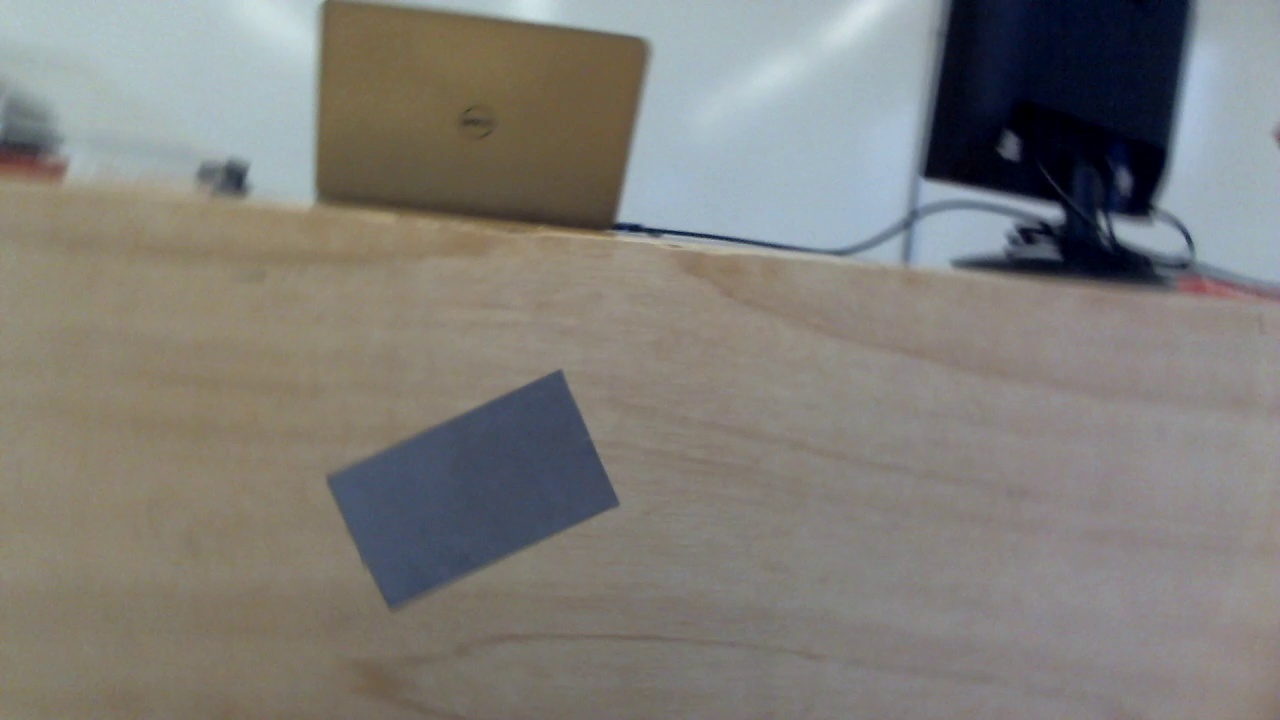Tape: (327, 369, 620, 612)
